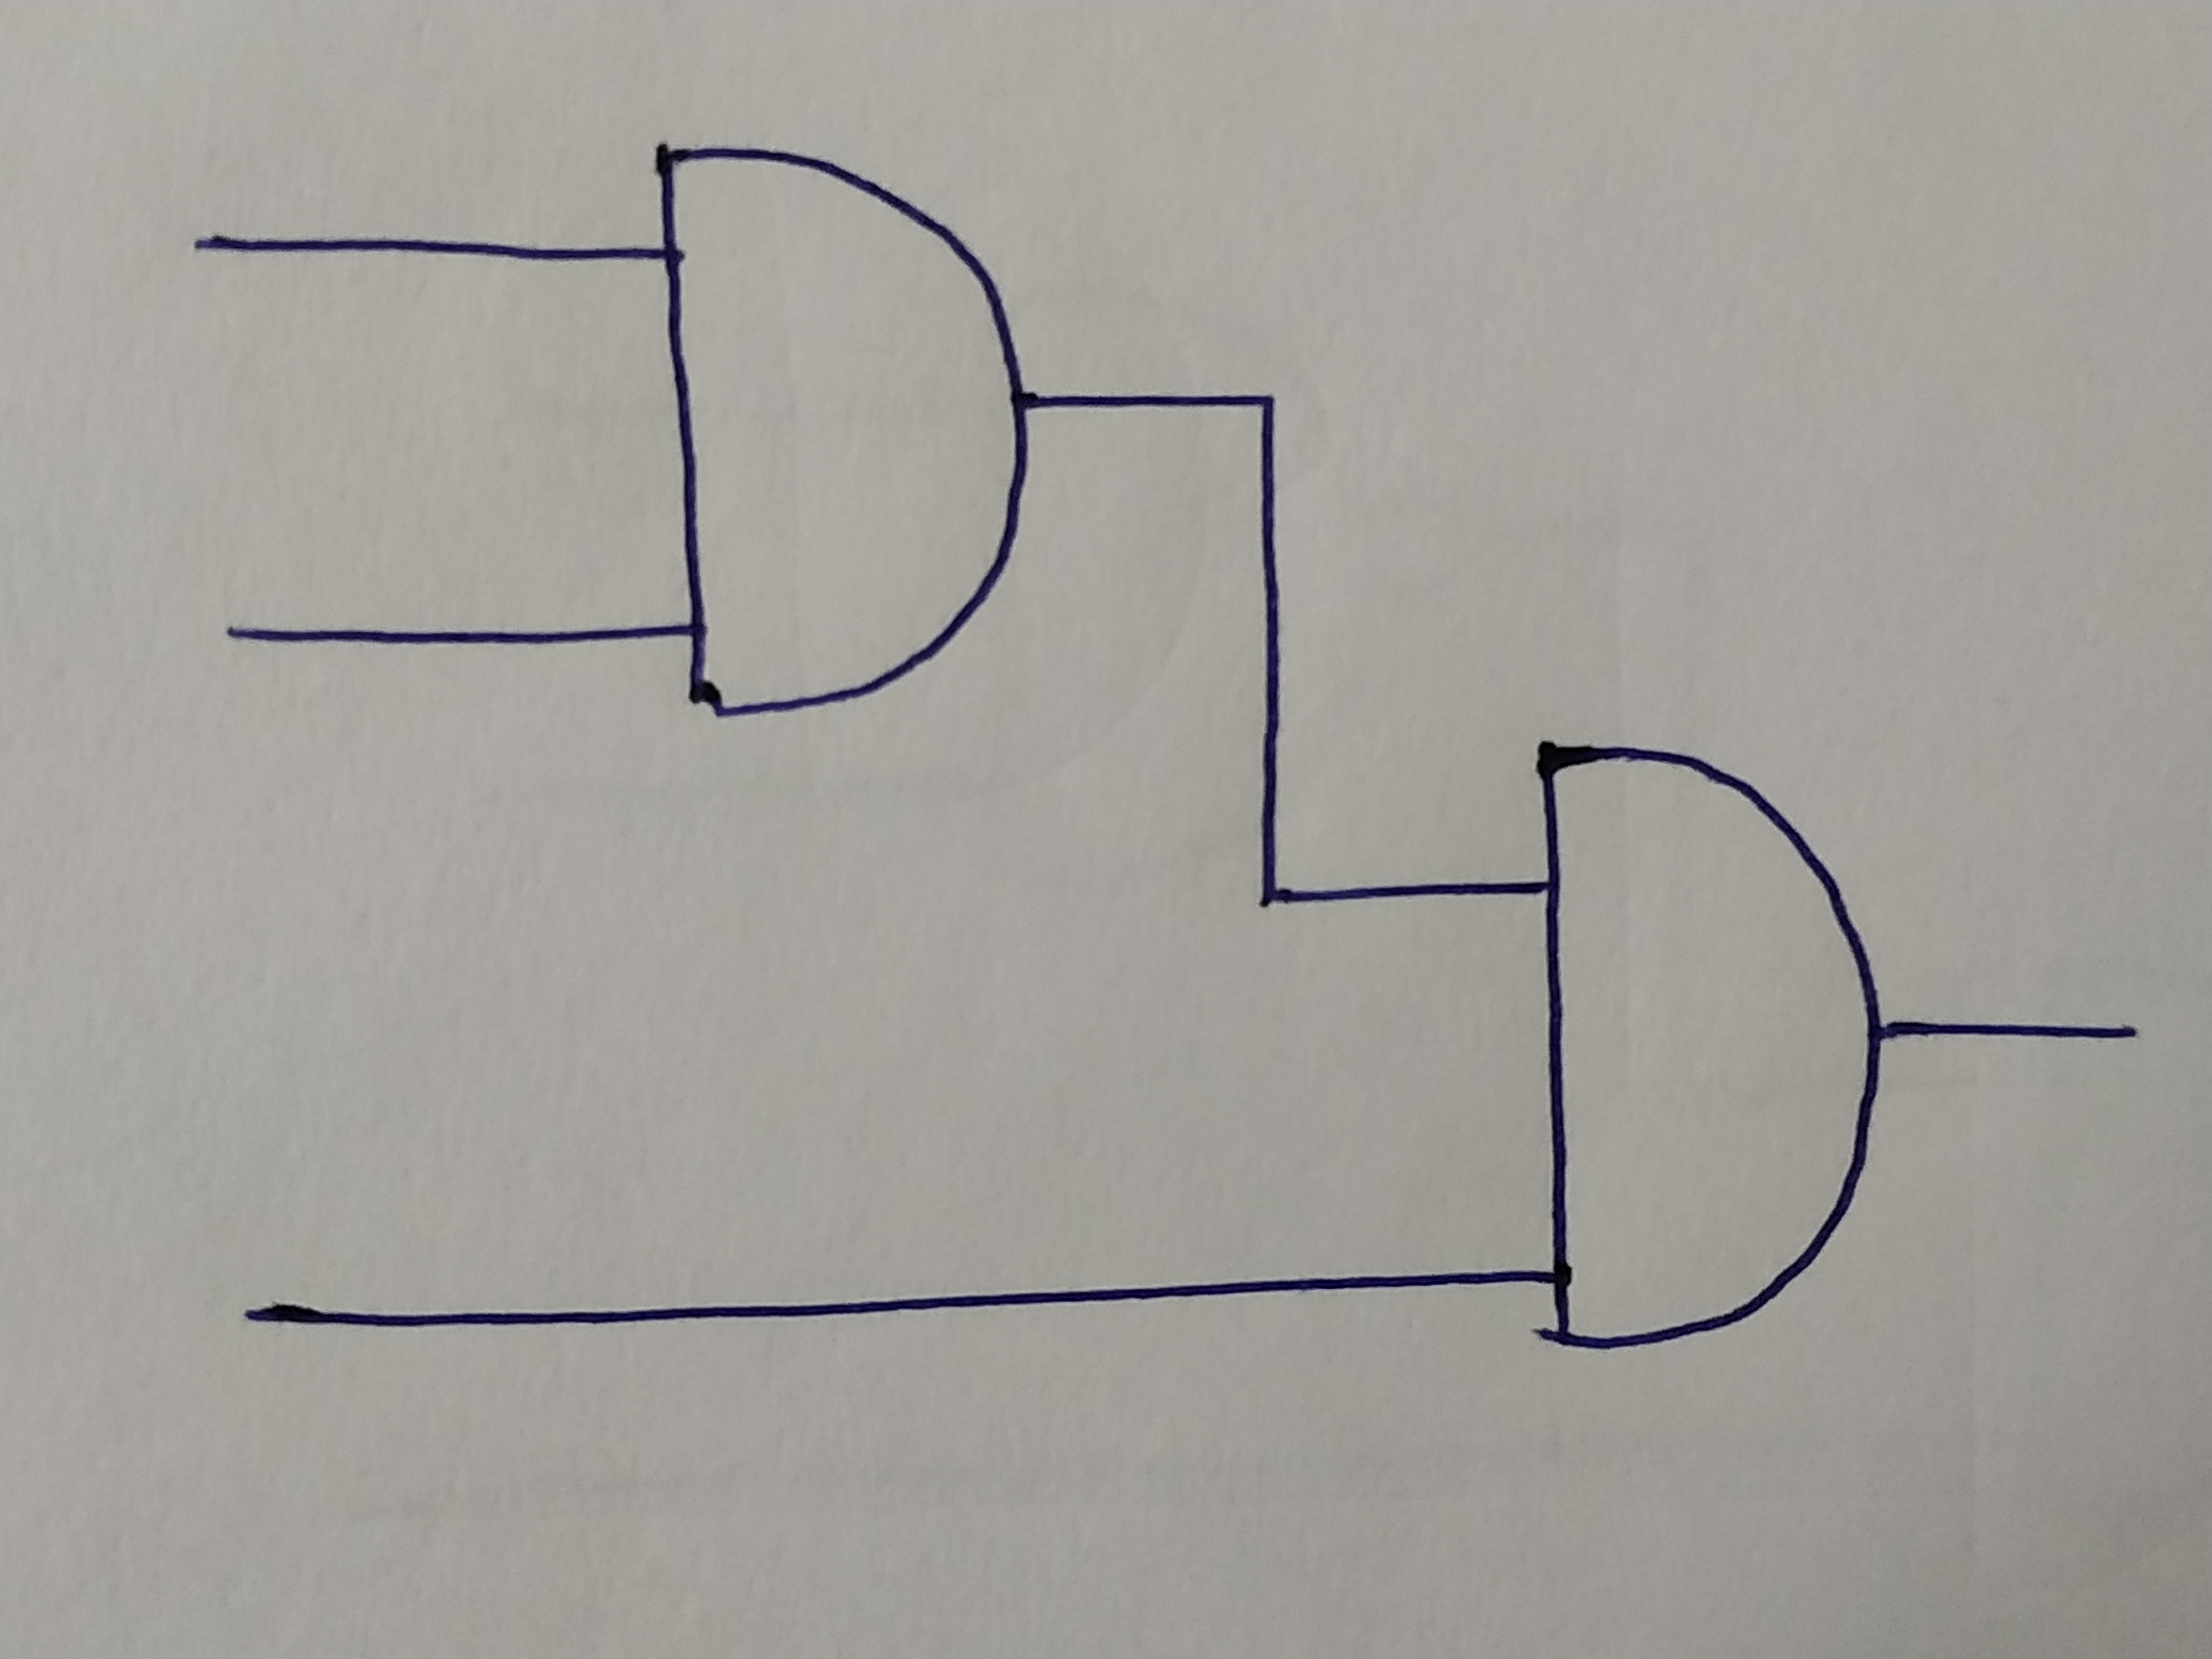and: (658, 145, 1024, 711), (1538, 744, 1872, 1354)
